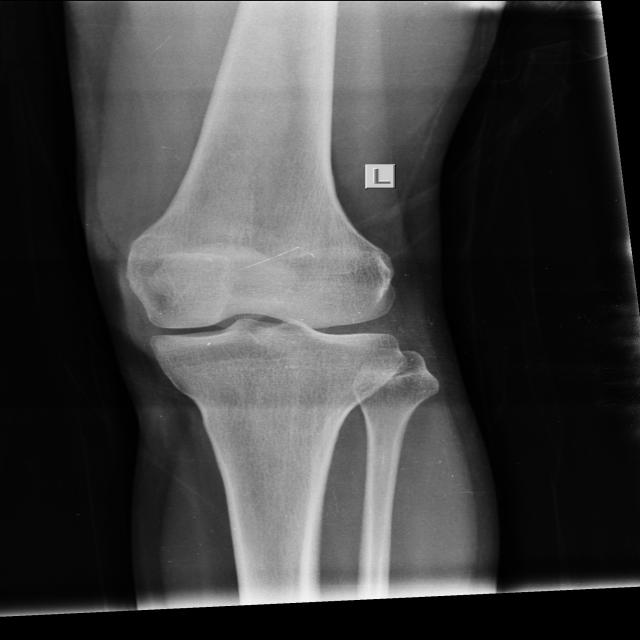normal: (119, 214, 412, 376)
